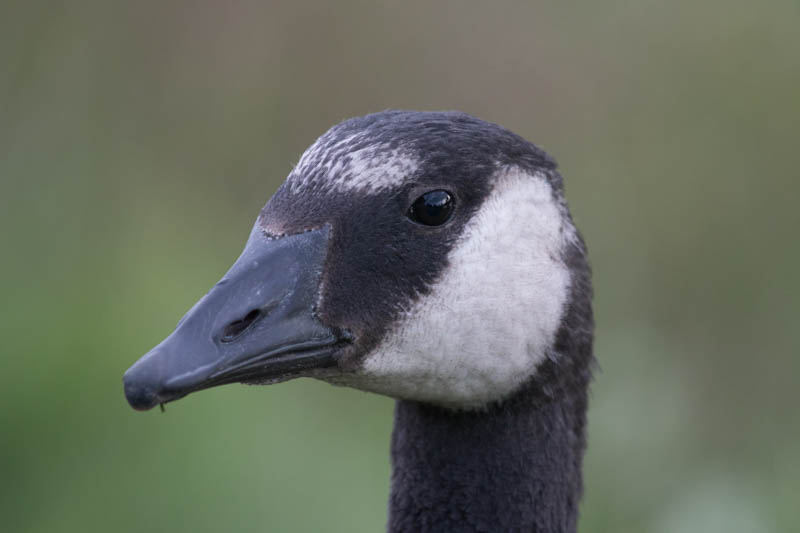goose-head: (122, 110, 596, 414)
